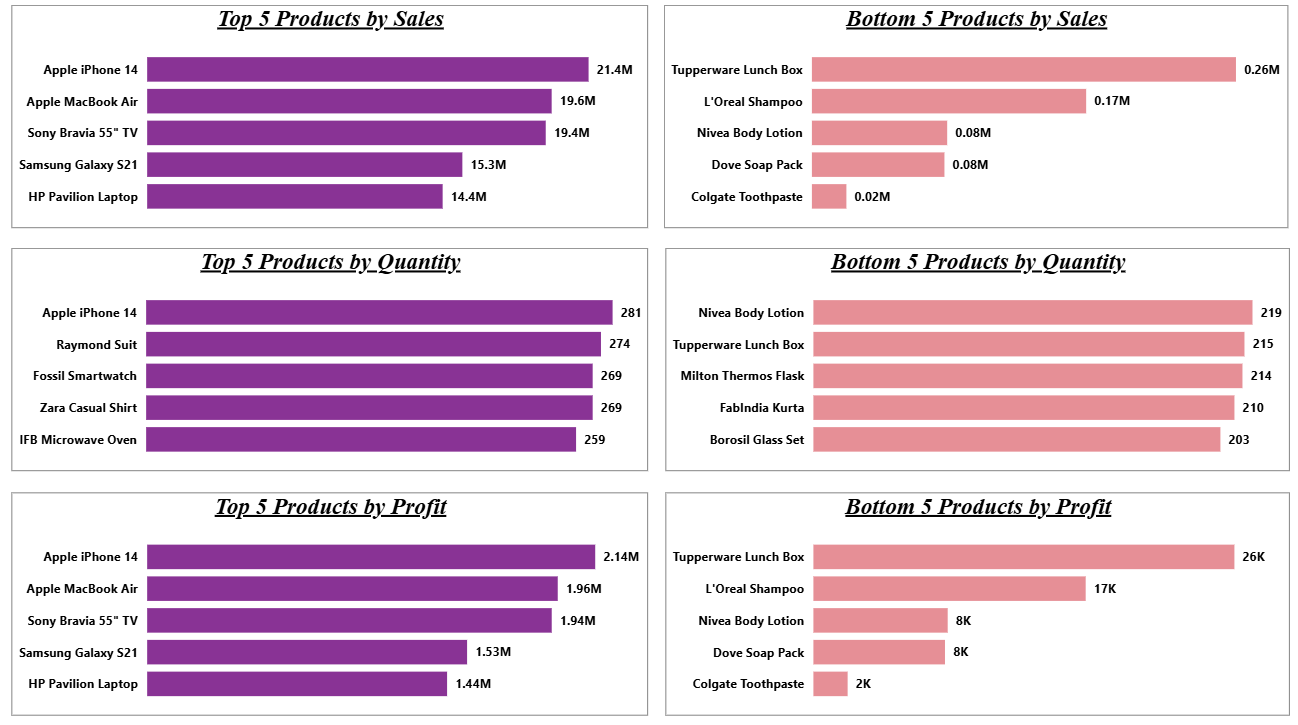

What the dashboard file says about the page in this screenshot:
{"tool":"powerbi","page":{"name":"Top & Bottom 5 Anlaysis","canvas":[1280,720],"ordinal":1},"visuals":[{"type":"barChart","title":"Top 5 Products by Sales","fields":{"Category":["Dim Product.Product Name"],"Y":["Sum(Facts Table.Net Sales)"]},"box":[15.5,12.1,624.1,219],"z":0},{"type":"barChart","title":"Bottom 5 Products by Sales","fields":{"Category":["Dim Product.Product Name"],"Y":["Sum(Facts Table.Net Sales)"]},"box":[655.2,12.1,612.1,219],"z":1000},{"type":"barChart","title":"Top 5 Products by Quantity","fields":{"Category":["Dim Product.Product Name"],"Y":["Sum(Facts Table.Units Sold)"]},"box":[15.5,250,624.1,219],"z":2000},{"type":"barChart","title":"Bottom 5 Products by Quantity","fields":{"Category":["Dim Product.Product Name"],"Y":["Sum(Facts Table.Units Sold)"]},"box":[656.9,250,612.1,219],"z":3000},{"type":"barChart","title":"Top 5 Products by Profit","fields":{"Category":["Dim Product.Product Name"],"Y":["Sum(Facts Table.Profit)"]},"box":[15.5,489.7,624.1,219],"z":4000},{"type":"barChart","title":"Bottom 5 Products by Profit","fields":{"Category":["Dim Product.Product Name"],"Y":["Sum(Facts Table.Profit)"]},"box":[656.9,489.7,612.1,219],"z":5000}]}

Visuals, with their boxes in screenshot pixels (x1, y1, x2, y2), scaled from the page's 1280x720 canvas onto the 1298x725 screenshot:
"Top 5 Products by Sales" barChart: <region>16, 12, 649, 233</region>
"Bottom 5 Products by Sales" barChart: <region>664, 12, 1285, 233</region>
"Top 5 Products by Quantity" barChart: <region>16, 252, 649, 472</region>
"Bottom 5 Products by Quantity" barChart: <region>666, 252, 1287, 472</region>
"Top 5 Products by Profit" barChart: <region>16, 493, 649, 714</region>
"Bottom 5 Products by Profit" barChart: <region>666, 493, 1287, 714</region>
